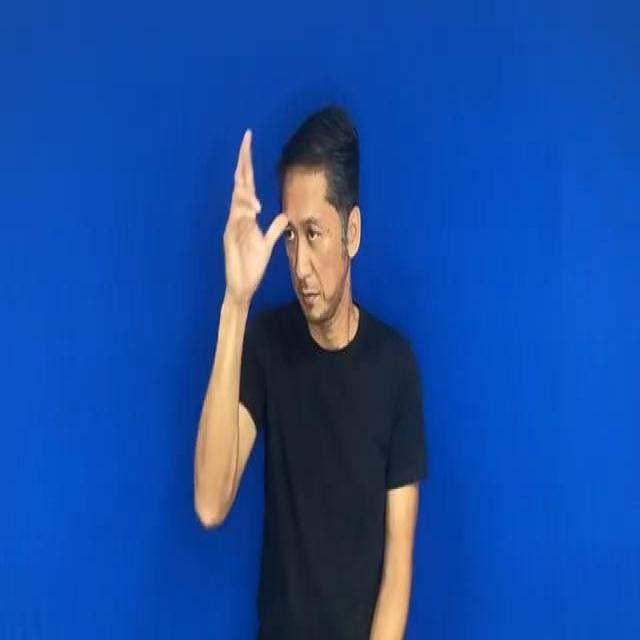chicken: (214, 123, 290, 296)
